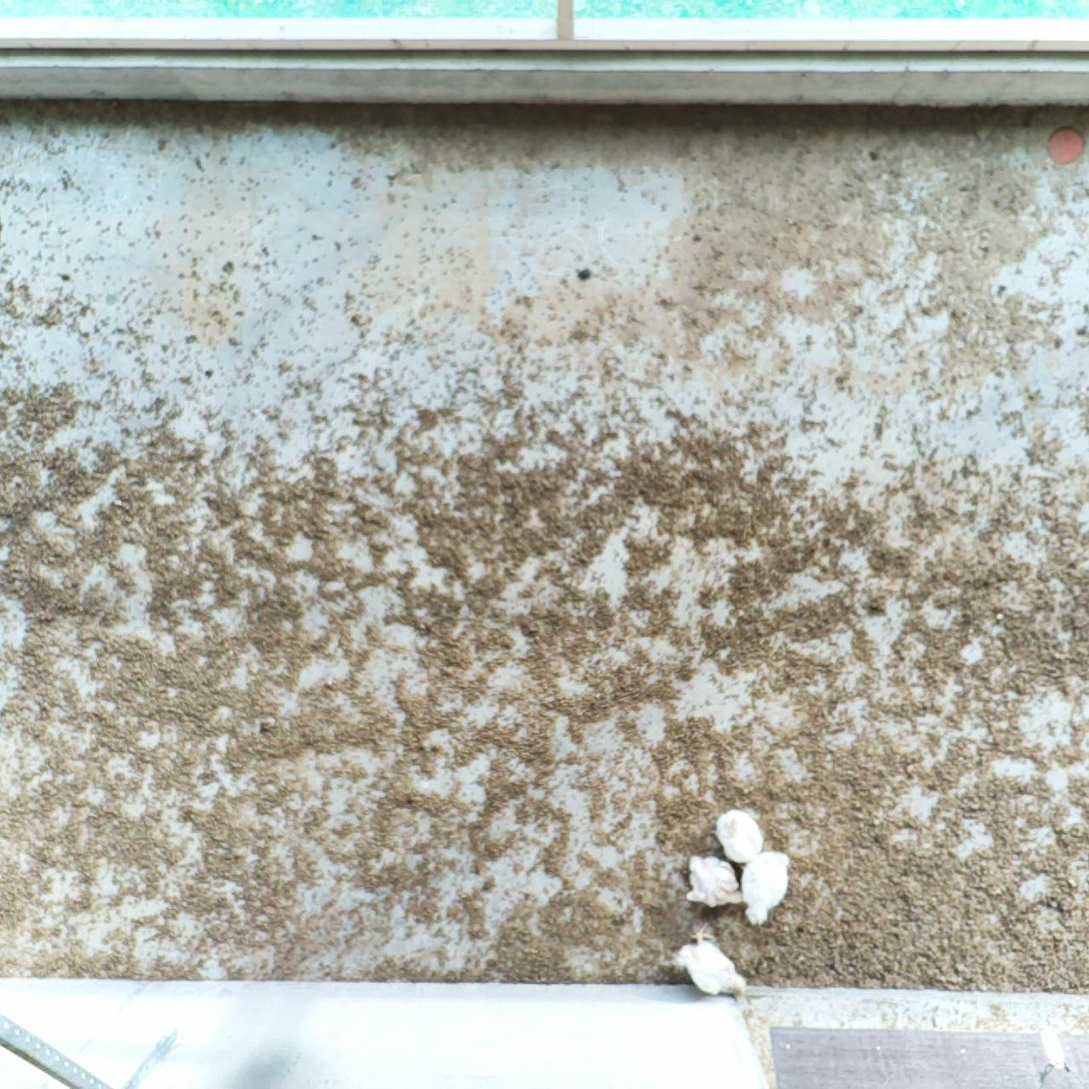chicken: (676, 921, 746, 1001), (741, 851, 792, 925), (685, 854, 745, 908), (718, 808, 763, 863)
